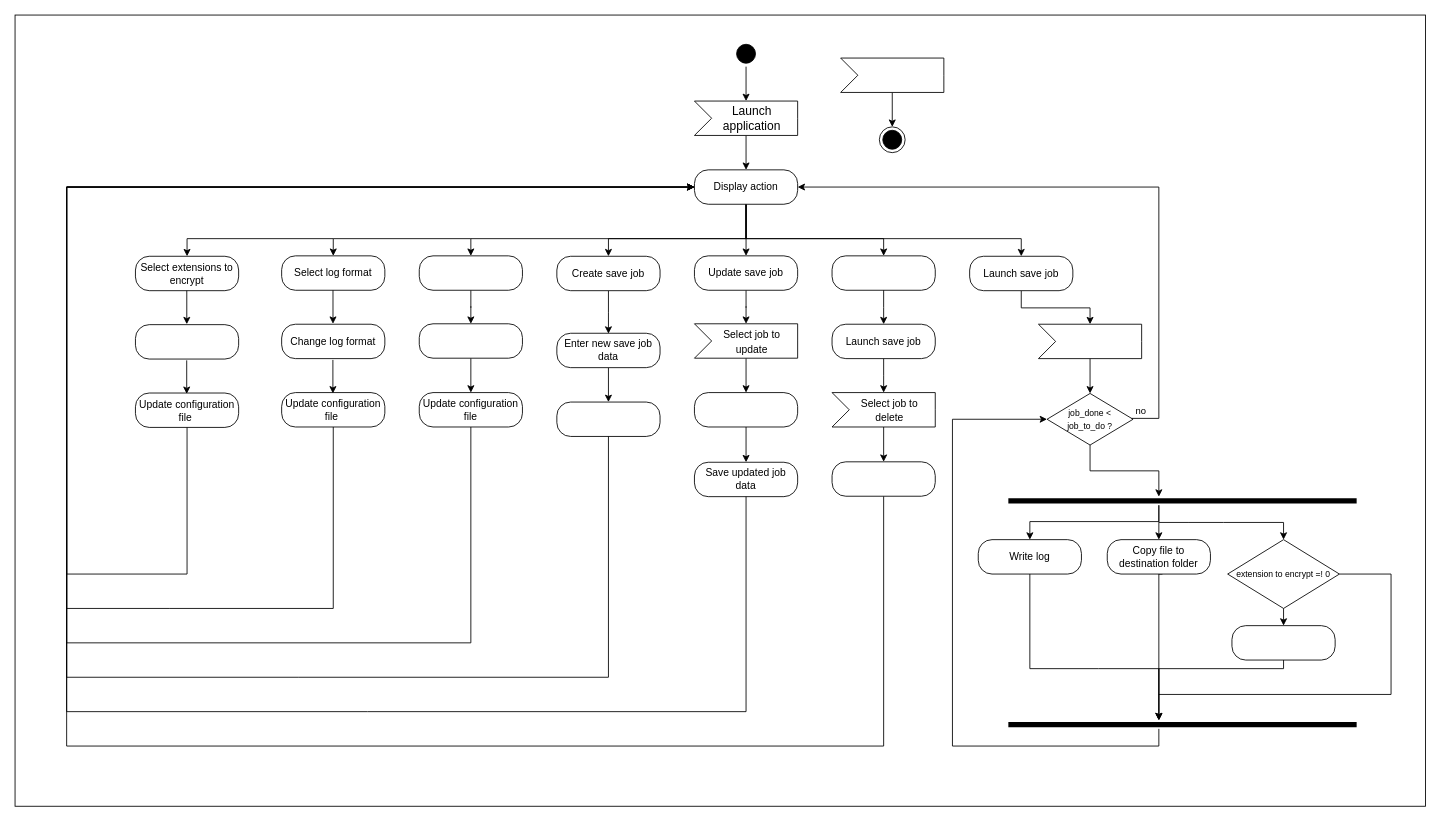
Some shapes in this 1441 by 821 pixel diagram are drawn without their labels. Each missing label, with the box of its shape:
Change language: (418, 323, 522, 358)
Close application: (840, 57, 944, 92)
Delete job data: (831, 461, 935, 496)
Delete save job: (831, 255, 935, 290)
Encrypt files: (1231, 625, 1335, 660)
Save configuration: (135, 324, 239, 359)
Save new job: (556, 401, 660, 436)
Select job to execute: (1038, 323, 1142, 359)
Select language: (418, 255, 522, 290)
Update job data: (694, 392, 798, 427)
